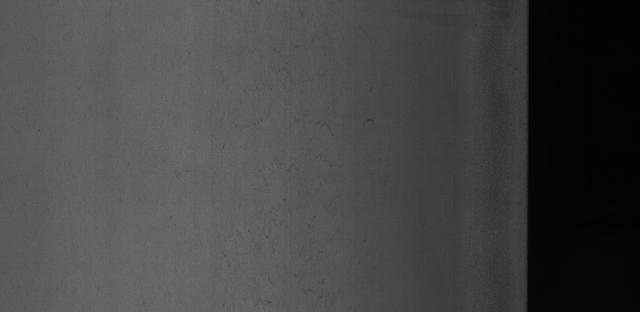silk_spot: (194, 109, 369, 276)
